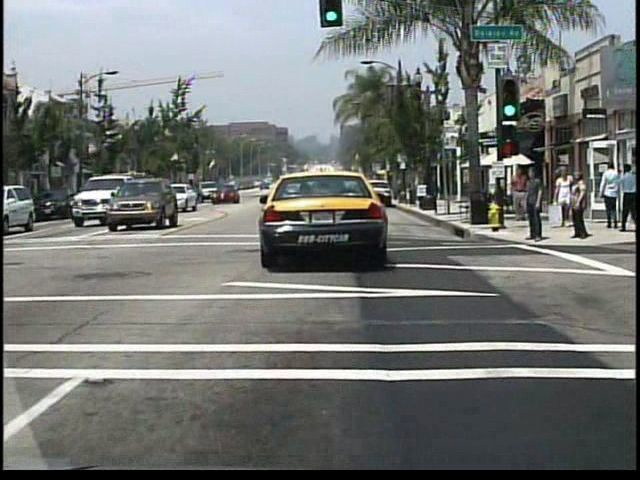person: (613, 166, 637, 234), (526, 165, 546, 243), (572, 171, 593, 241), (597, 160, 617, 230), (551, 165, 572, 228), (510, 169, 529, 222)
